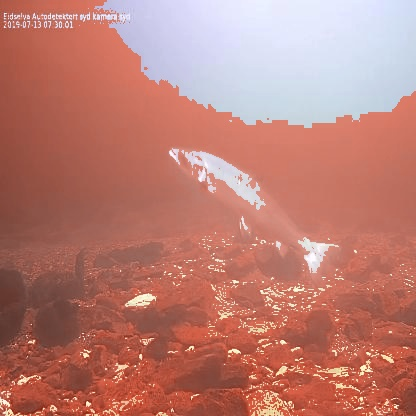salmon: (166, 136, 342, 288)
